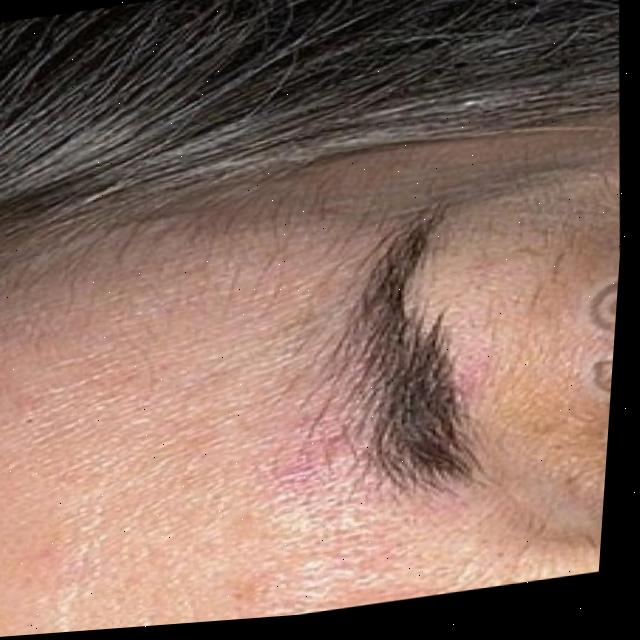Rosacea: (241, 422, 389, 512)
